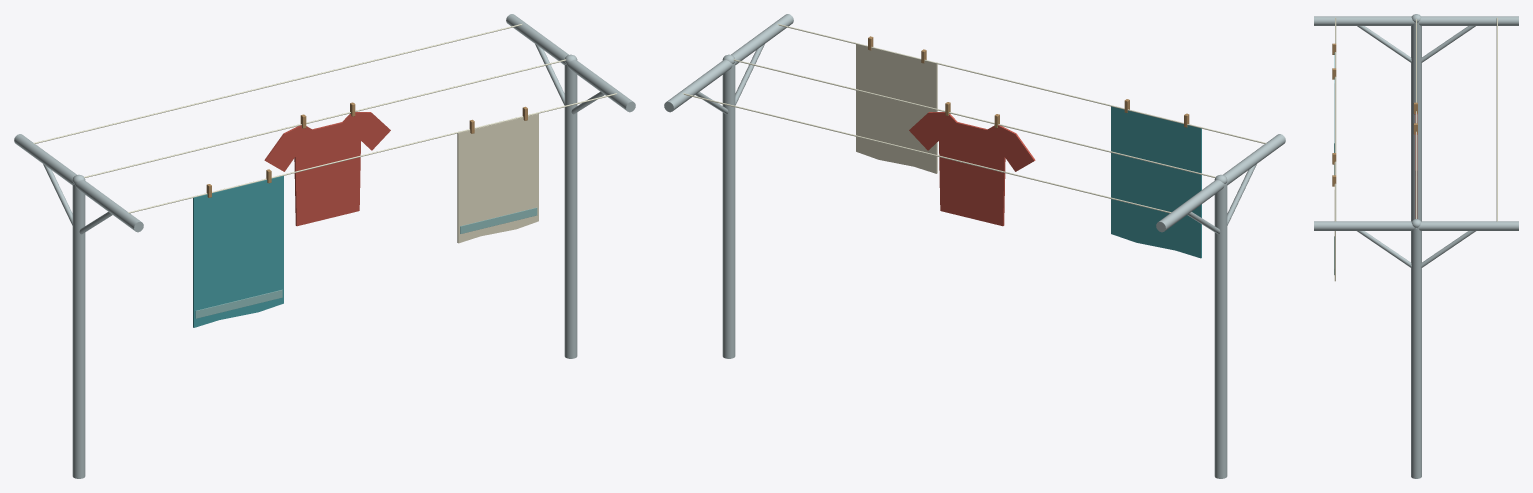
The model's file is clothesline.glb.
The picture shows the model from 3 angles, left to right: view 1: azimuth 30°, elevation 25°; view 2: azimuth 150°, elevation 25°; view 3: azimuth 270°, elevation 25°; orthographic projection. The views are drawn at different scales.
Visible parts, largest first — view 1: Hanging towel 1, Hanging towel 2, Short sleeved shirt on line, Clothesline upright T-post, Clothesline upright T-post.001, Clothesline crossbar, Clothesline crossbar.001, Taut outdoor clothesline.002, Taut outdoor clothesline.001, Taut outdoor clothesline, Towel lower woven border, Towel lower woven border.001; view 2: Hanging towel 1, Hanging towel 2, Short sleeved shirt on line, Clothesline upright T-post, Clothesline upright T-post.001, Clothesline crossbar, Clothesline crossbar.001, Taut outdoor clothesline.002, Taut outdoor clothesline.001, Taut outdoor clothesline; view 3: Clothesline upright T-post.001, Clothesline crossbar.001, Clothesline crossbar, Clothesline upright T-post, Taut outdoor clothesline.002, Taut outdoor clothesline, Clothesline crossbar brace.002, Clothesline crossbar brace.003, Clothesline crossbar brace, Clothesline crossbar brace.001.
Part boxes in pixels (x1,y1,x2,y2): Hanging towel 1: (193, 175, 283, 327); Hanging towel 2: (457, 113, 538, 243); Short sleeved shirt on line: (264, 112, 390, 226); Clothesline upright T-post: (72, 183, 85, 478); Clothesline upright T-post.001: (564, 63, 577, 358); Clothesline crossbar: (14, 134, 143, 232); Clothesline crossbar.001: (506, 14, 635, 112); Taut outdoor clothesline.002: (33, 23, 522, 143); Taut outdoor clothesline.001: (84, 59, 565, 177); Taut outdoor clothesline: (128, 93, 616, 213); Towel lower woven border: (195, 289, 282, 318); Towel lower woven border.001: (460, 207, 537, 233); Hanging towel 1: (1111, 106, 1201, 258); Hanging towel 2: (856, 44, 937, 173); Short sleeved shirt on line: (909, 112, 1035, 226); Clothesline upright T-post: (1214, 183, 1227, 478); Clothesline upright T-post.001: (722, 63, 735, 358); Clothesline crossbar: (1156, 134, 1285, 232); Clothesline crossbar.001: (664, 14, 793, 112); Taut outdoor clothesline.002: (683, 93, 1171, 213); Taut outdoor clothesline.001: (734, 59, 1215, 177); Taut outdoor clothesline: (777, 23, 1266, 143); Clothesline upright T-post.001: (1411, 228, 1421, 478); Clothesline crossbar.001: (1314, 221, 1518, 230); Clothesline crossbar: (1314, 16, 1518, 25); Clothesline upright T-post: (1411, 23, 1421, 221); Taut outdoor clothesline.002: (1496, 17, 1497, 221); Taut outdoor clothesline: (1335, 17, 1336, 221); Clothesline crossbar brace.002: (1357, 231, 1411, 267); Clothesline crossbar brace.003: (1421, 231, 1475, 267); Clothesline crossbar brace: (1357, 26, 1411, 62); Clothesline crossbar brace.001: (1421, 26, 1475, 62).
Size of the model in its own units: 3.68 by 2.14 by 1.52.
